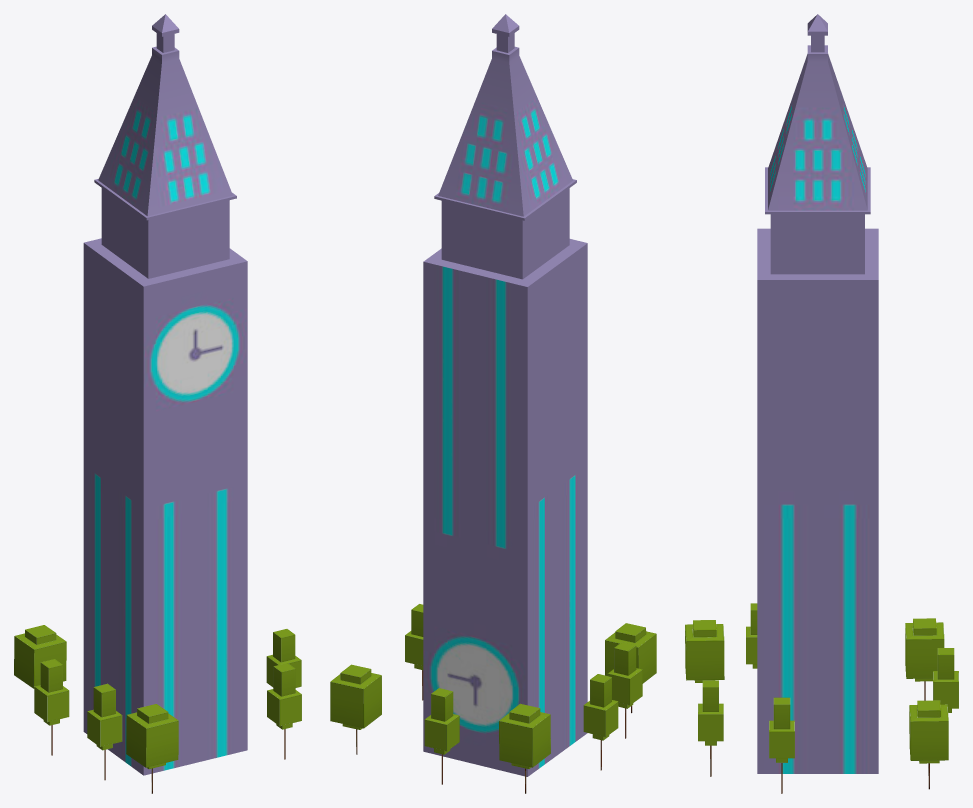
File: service_clocktower.obj
3 renders of one model, left to right at view 1: azimuth 30°, elevation 25°; view 2: azimuth 150°, elevation 25°; view 3: azimuth 270°, elevation 25°, orthographic.
Parts seen in each view (by area): view 1: service_clocktower_Mesh.9305, Tree_3_499_2.247_Mesh.9307, Tree_3_499_2.251_Mesh.9312, Tree_2_3_61.430_Mesh.9309, Tree_2_3_61.431_Mesh.9313, Tree_2_3_61.429_Mesh.9306, Tree_2_3_61.434_Mesh.9316; view 2: service_clocktower_Mesh.9305, Tree_3_499_2.249_Mesh.9310, Tree_3_499_2.251_Mesh.9312, Tree_2_3_61.432_Mesh.9314, Tree_2_3_61.431_Mesh.9313, Tree_2_3_61.430_Mesh.9309, Tree_3_499_2.247_Mesh.9307, Tree_2_3_61.434_Mesh.9316; view 3: service_clocktower_Mesh.9305, Tree_3_499_2.249_Mesh.9310, Tree_3_499_2.247_Mesh.9307, Tree_3_499_2.251_Mesh.9312, Tree_2_3_61.434_Mesh.9316, Tree_2_3_61.429_Mesh.9306, Tree_2_3_61.432_Mesh.9314, Tree_2_3_61.430_Mesh.9309.
Boxes of the visible parts, x1,y1,x2,y2 form: service_clocktower_Mesh.9305: (83, 14, 247, 775); Tree_3_499_2.247_Mesh.9307: (126, 704, 178, 793); Tree_3_499_2.251_Mesh.9312: (14, 625, 66, 688); Tree_2_3_61.430_Mesh.9309: (87, 683, 122, 780); Tree_2_3_61.431_Mesh.9313: (34, 659, 69, 755); Tree_2_3_61.429_Mesh.9306: (267, 663, 301, 759); Tree_2_3_61.434_Mesh.9316: (266, 629, 301, 687); service_clocktower_Mesh.9305: (423, 14, 587, 776); Tree_3_499_2.249_Mesh.9310: (330, 664, 381, 754); Tree_3_499_2.251_Mesh.9312: (499, 703, 550, 793); Tree_2_3_61.432_Mesh.9314: (424, 688, 459, 784); Tree_2_3_61.431_Mesh.9313: (583, 674, 618, 770); Tree_2_3_61.430_Mesh.9309: (607, 642, 642, 738); Tree_3_499_2.247_Mesh.9307: (605, 623, 656, 713); Tree_2_3_61.434_Mesh.9316: (405, 604, 423, 700); service_clocktower_Mesh.9305: (757, 14, 878, 773); Tree_3_499_2.249_Mesh.9310: (909, 700, 948, 789); Tree_3_499_2.247_Mesh.9307: (685, 620, 724, 682); Tree_3_499_2.251_Mesh.9312: (905, 618, 944, 700); Tree_2_3_61.434_Mesh.9316: (769, 697, 794, 793); Tree_2_3_61.429_Mesh.9306: (698, 680, 723, 776); Tree_2_3_61.432_Mesh.9314: (933, 648, 958, 712); Tree_2_3_61.430_Mesh.9309: (746, 603, 757, 668).
Size of the model in its own units: 1.62 by 4.96 by 1.68.
3 materials, 3 textured.
